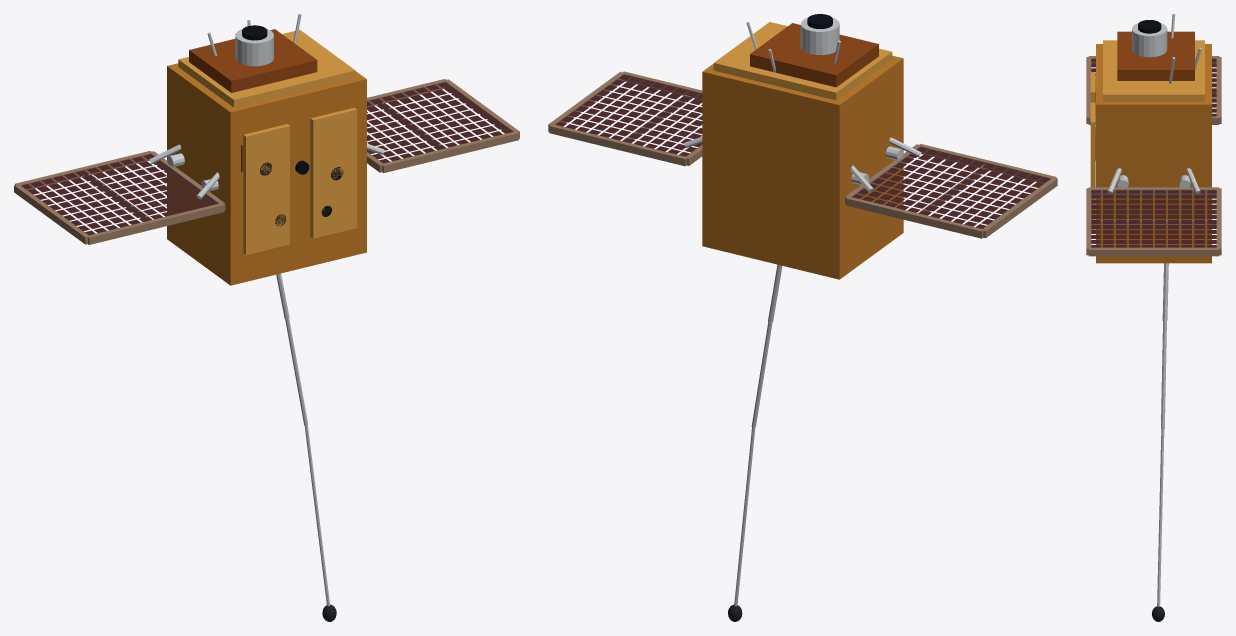
The model's file is ADITYA-L1.glb.
3 renders of one model, left to right at view 1: azimuth 30°, elevation 25°; view 2: azimuth 150°, elevation 25°; view 3: azimuth 270°, elevation 25°, orthographic. The views are drawn at different scales.
Visible parts, largest first — view 1: ADITYA_L1_MAIN_GOLD_BUS, ADITYA_L1_MLI_DETAILS, ADITYA_L1_CONSOLIDATED_SOLAR_CELLS, ADITYA_L1_CONSOLIDATED_SOLAR_FRAMES, ADITYA_L1_UPPER_PAYLOAD_DECK, ADITYA_L1_LONG_INSTRUMENT_BOOM, ADITYA_L1_TOP_SOLAR_OBSERVATION_INSTRUMENT; view 2: ADITYA_L1_MAIN_GOLD_BUS, ADITYA_L1_CONSOLIDATED_SOLAR_CELLS, ADITYA_L1_CONSOLIDATED_SOLAR_FRAMES, ADITYA_L1_UPPER_PAYLOAD_DECK, ADITYA_L1_MLI_DETAILS, ADITYA_L1_LONG_INSTRUMENT_BOOM, ADITYA_L1_TOP_SOLAR_OBSERVATION_INSTRUMENT; view 3: ADITYA_L1_MAIN_GOLD_BUS, ADITYA_L1_CONSOLIDATED_SOLAR_CELLS, ADITYA_L1_MLI_DETAILS, ADITYA_L1_CONSOLIDATED_SOLAR_FRAMES, ADITYA_L1_UPPER_PAYLOAD_DECK, ADITYA_L1_LONG_INSTRUMENT_BOOM, ADITYA_L1_TOP_SOLAR_OBSERVATION_INSTRUMENT, ADITYA_L1_SOLAR_SUPPORTS, ADITYA_L1_SOLAR_TELESCOPE_APERTURE, ADITYA_L1_SOLAR_HINGES, ADITYA_L1_SOLAR_MAJOR_DIVIDERS, ADITYA_L1_SMALL_ANTENNAS.
Part boxes in pixels (bbox=[...]): ADITYA_L1_MAIN_GOLD_BUS: bbox=[167, 63, 366, 285]; ADITYA_L1_MLI_DETAILS: bbox=[178, 29, 357, 254]; ADITYA_L1_CONSOLIDATED_SOLAR_CELLS: bbox=[21, 82, 512, 235]; ADITYA_L1_CONSOLIDATED_SOLAR_FRAMES: bbox=[14, 79, 519, 244]; ADITYA_L1_UPPER_PAYLOAD_DECK: bbox=[189, 29, 317, 92]; ADITYA_L1_LONG_INSTRUMENT_BOOM: bbox=[276, 273, 329, 606]; ADITYA_L1_TOP_SOLAR_OBSERVATION_INSTRUMENT: bbox=[235, 29, 273, 66]; ADITYA_L1_MAIN_GOLD_BUS: bbox=[702, 55, 903, 279]; ADITYA_L1_CONSOLIDATED_SOLAR_CELLS: bbox=[555, 75, 1050, 228]; ADITYA_L1_CONSOLIDATED_SOLAR_FRAMES: bbox=[548, 71, 1057, 238]; ADITYA_L1_UPPER_PAYLOAD_DECK: bbox=[750, 23, 878, 87]; ADITYA_L1_MLI_DETAILS: bbox=[713, 22, 892, 100]; ADITYA_L1_LONG_INSTRUMENT_BOOM: bbox=[734, 264, 782, 606]; ADITYA_L1_TOP_SOLAR_OBSERVATION_INSTRUMENT: bbox=[800, 17, 839, 55]; ADITYA_L1_MAIN_GOLD_BUS: bbox=[1096, 44, 1211, 263]; ADITYA_L1_CONSOLIDATED_SOLAR_CELLS: bbox=[1091, 59, 1216, 247]; ADITYA_L1_MLI_DETAILS: bbox=[1090, 40, 1204, 229]; ADITYA_L1_CONSOLIDATED_SOLAR_FRAMES: bbox=[1086, 56, 1221, 256]; ADITYA_L1_UPPER_PAYLOAD_DECK: bbox=[1117, 31, 1194, 80]; ADITYA_L1_LONG_INSTRUMENT_BOOM: bbox=[1157, 263, 1168, 606]; ADITYA_L1_TOP_SOLAR_OBSERVATION_INSTRUMENT: bbox=[1132, 23, 1167, 57]; ADITYA_L1_SOLAR_SUPPORTS: bbox=[1107, 168, 1200, 194]; ADITYA_L1_SOLAR_TELESCOPE_APERTURE: bbox=[1138, 20, 1161, 33]; ADITYA_L1_SOLAR_HINGES: bbox=[1117, 175, 1190, 188]; ADITYA_L1_SOLAR_MAJOR_DIVIDERS: bbox=[1091, 92, 1216, 225]; ADITYA_L1_SMALL_ANTENNAS: bbox=[1169, 14, 1201, 83].
Size of the model in its own units: 4.14 by 5.6 by 1.23.
